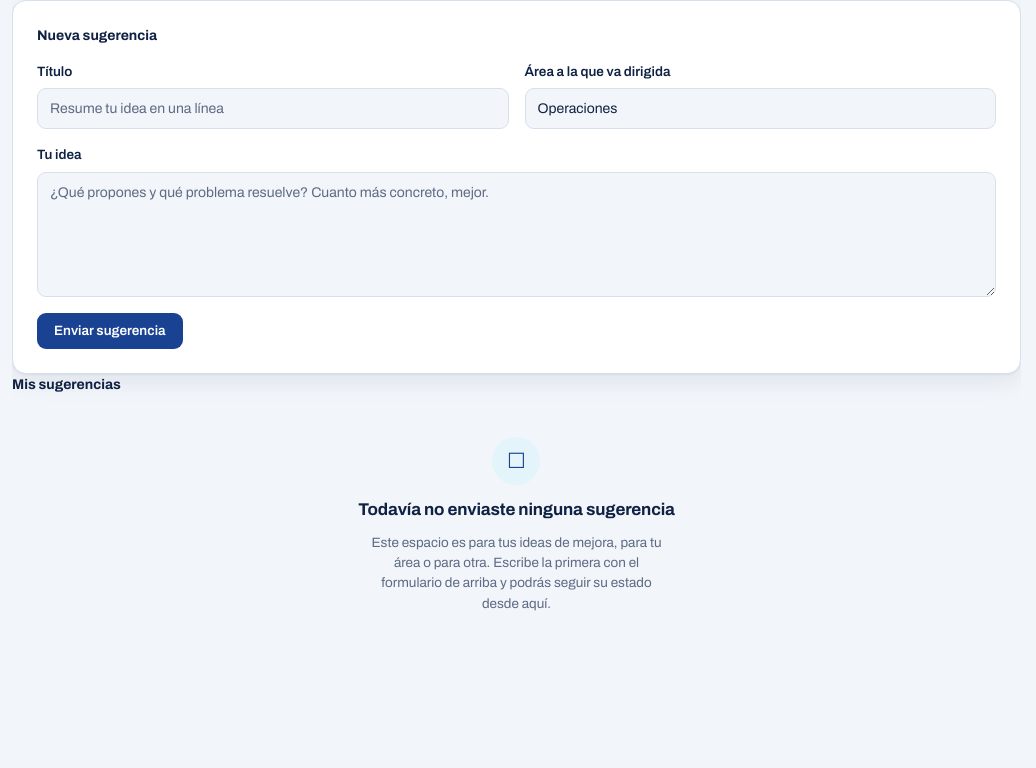
Test: el envío › manda los datos parseados y confirma con un toast
The image size is (1036, 768).
In the field labelled "Título": (273, 109) [37,88,508,129], type "Tablero de peajes"
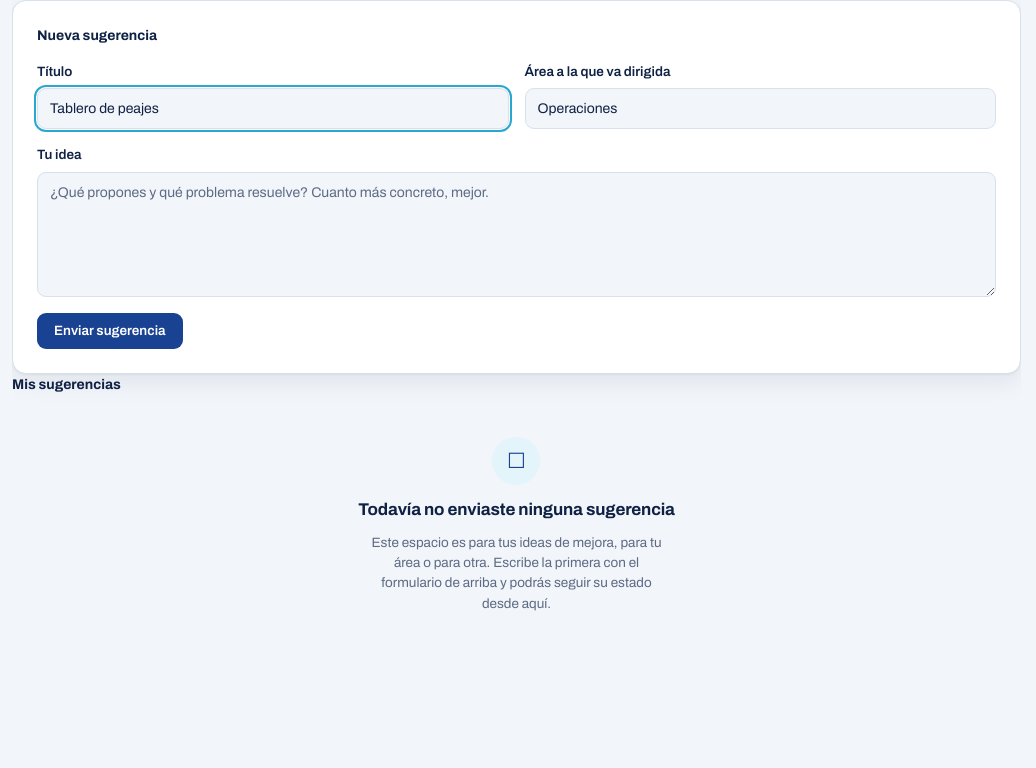
In the text box labelled "Tu idea": (516, 234) [37,172,996,296], type "Ver el flujo por caseta."
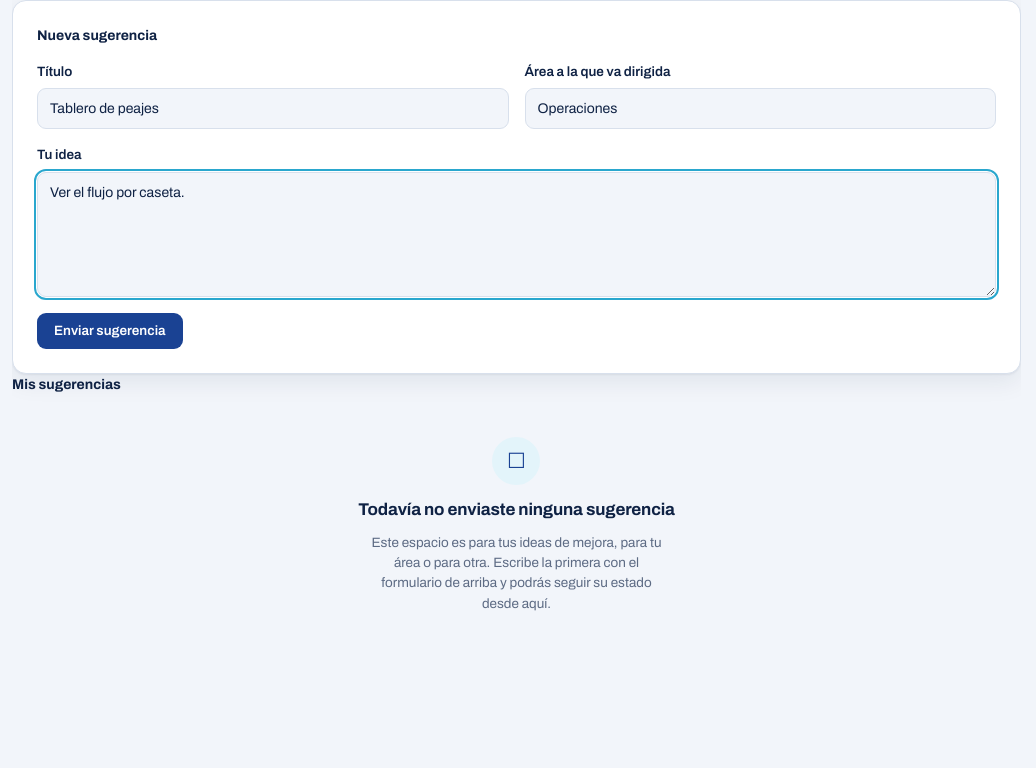
Click the button "Enviar sugerencia": (110, 331) [37,312,183,349]
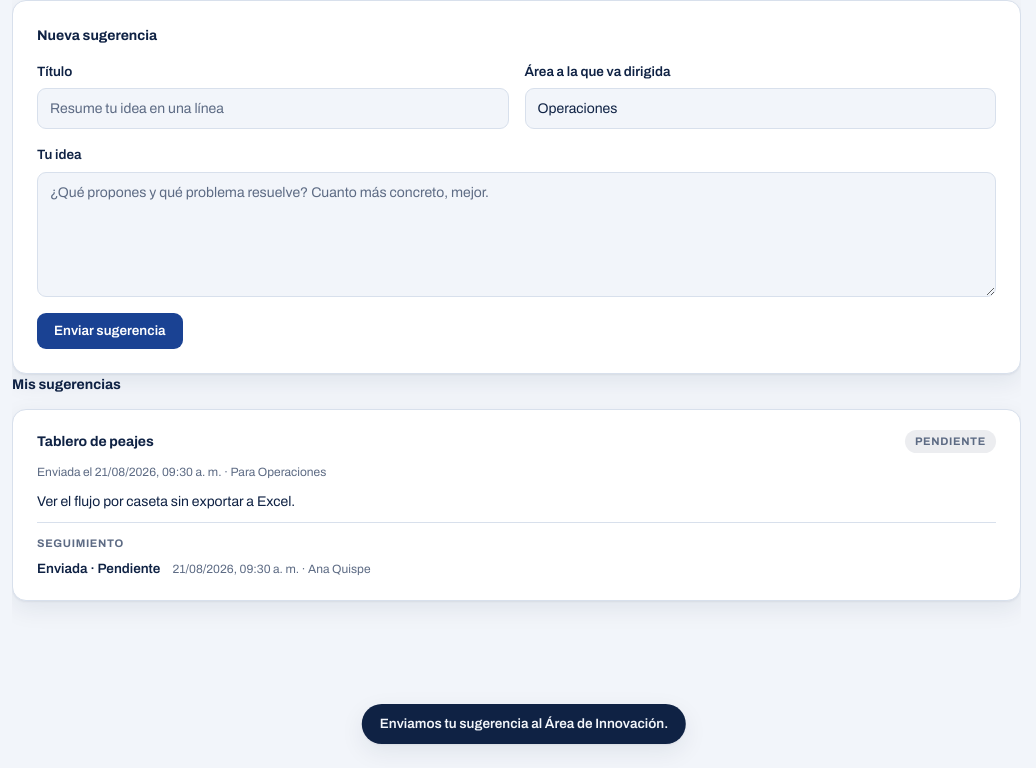
Check: the text "Enviamos tu sugerencia al Área de Innovación." is shown, box [362,704,686,744]
